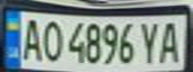4: (63, 18, 84, 64)
6: (118, 19, 139, 65)
8: (81, 19, 103, 65)
9: (100, 20, 121, 65)
A: (18, 15, 45, 62), (157, 18, 184, 64)
O: (39, 17, 66, 63)
Y: (136, 19, 163, 65)
